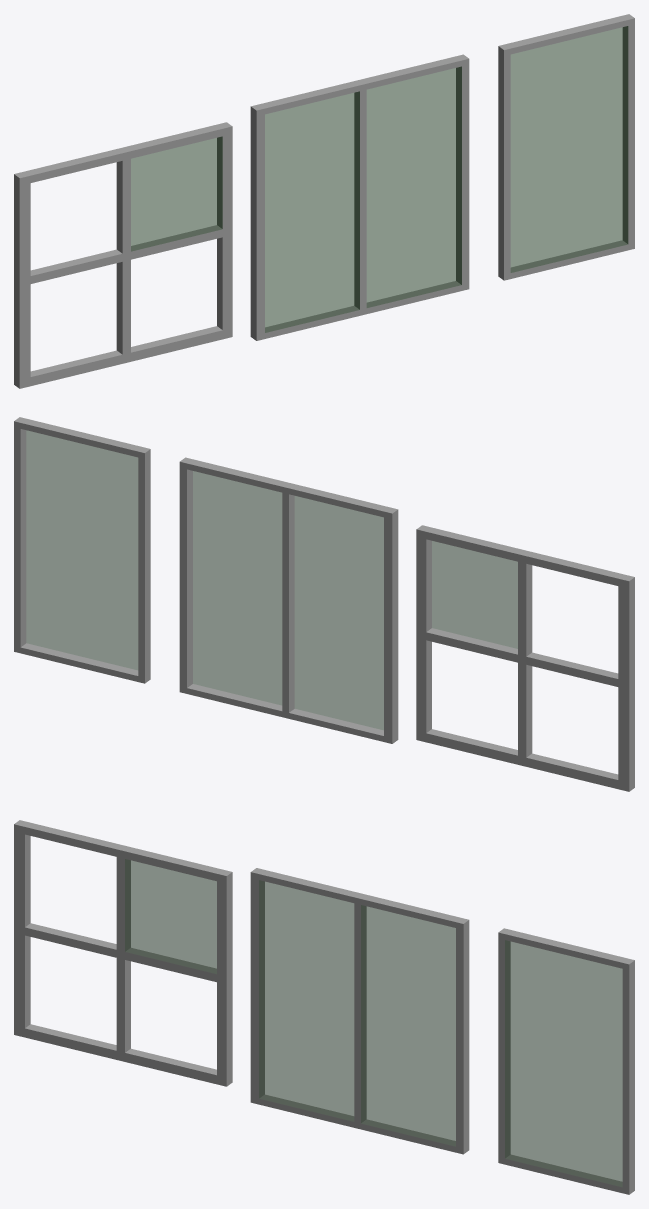
The model's file is Windows.fbx.
The picture shows the model from 3 angles, top to bottom: view 1: azimuth 30°, elevation 25°; view 2: azimuth 150°, elevation 25°; view 3: azimuth 330°, elevation 25°; orthographic projection.
Visible parts, largest first — view 1: polySurface11, polySurface12, polySurface9, pCube152, polySurface8, pCube142, polySurface10; view 2: polySurface11, polySurface12, polySurface9, pCube152, polySurface8, pCube142, polySurface10; view 3: polySurface11, polySurface9, polySurface12, pCube152, polySurface8, pCube142, polySurface10.
Part boxes in pixels (left/top/right/bottom): polySurface11: left=510, top=26, right=628, bottom=272; polySurface12: left=366, top=66, right=461, bottom=307; polySurface9: left=265, top=91, right=359, bottom=332; pCube152: left=14, top=122, right=232, bottom=388; polySurface8: left=250, top=54, right=469, bottom=340; pCube142: left=498, top=14, right=634, bottom=280; polySurface10: left=131, top=136, right=222, bottom=251; polySurface11: left=26, top=430, right=138, bottom=670; polySurface12: left=193, top=471, right=282, bottom=705; polySurface9: left=294, top=496, right=383, bottom=730; pCube152: left=416, top=525, right=634, bottom=791; polySurface8: left=179, top=457, right=398, bottom=743; pCube142: left=14, top=417, right=150, bottom=683; polySurface10: left=432, top=541, right=517, bottom=648; polySurface11: left=505, top=940, right=622, bottom=1186; polySurface9: left=259, top=880, right=354, bottom=1121; polySurface12: left=361, top=905, right=455, bottom=1146; pCube152: left=14, top=820, right=232, bottom=1086; polySurface8: left=250, top=868, right=469, bottom=1154; pCube142: left=498, top=928, right=634, bottom=1194; polySurface10: left=125, top=859, right=216, bottom=973.
Bounding box in the file's own units: 76.11 × 27.25 × 1.24.
